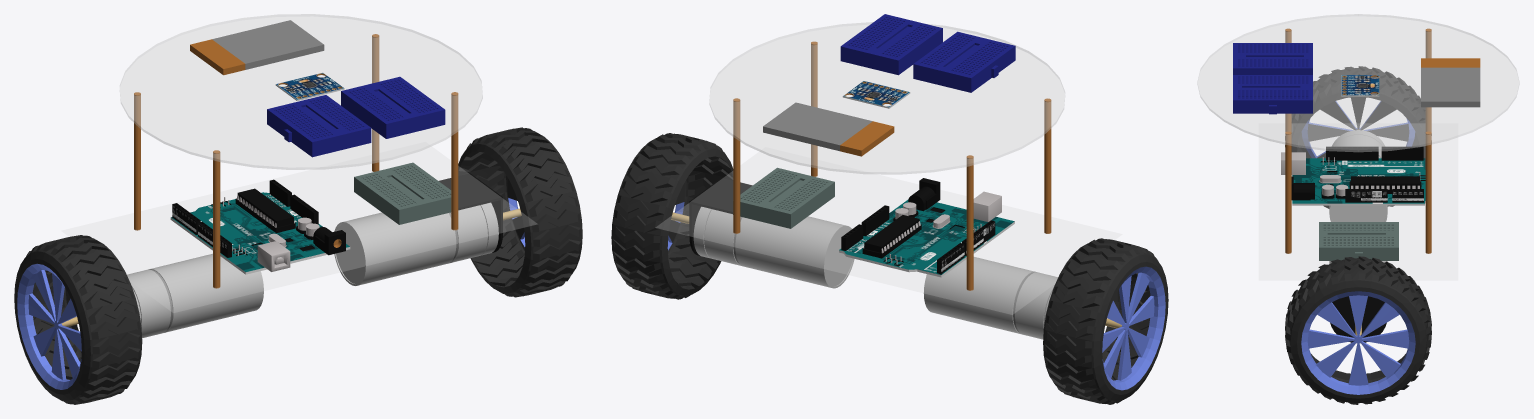
File: combine.glb
The picture shows the model from 3 angles, left to right: view 1: azimuth 30°, elevation 25°; view 2: azimuth 150°, elevation 25°; view 3: azimuth 270°, elevation 25°; orthographic projection. The views are drawn at different scales.
Visible parts, largest first — view 1: Body.001; view 2: Body.001; view 3: Body.001.
Part boxes in pixels (bbox=[...]): Body.001: bbox=[14, 14, 582, 404]; Body.001: bbox=[611, 14, 1168, 404]; Body.001: bbox=[1197, 14, 1519, 404].
Bounding box in the file's own units: 7.22 × 3.67 × 4.57.
29 materials, 7 textured.
